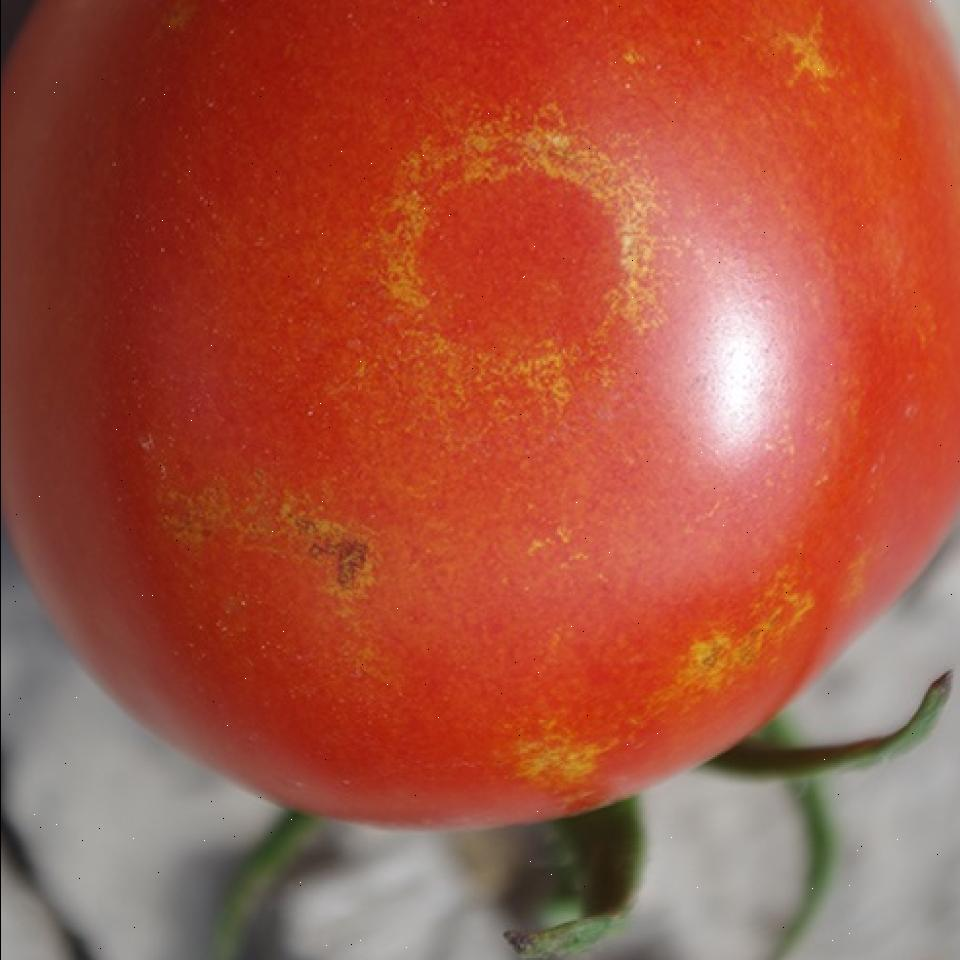Spotted wilt Virus: (0, 0, 960, 829)
